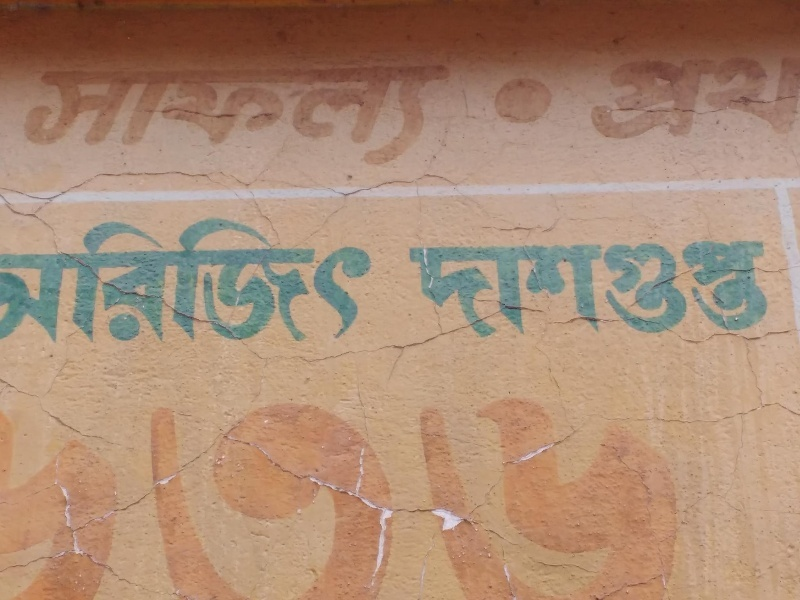text: (17, 387, 32, 598), (33, 387, 48, 598), (49, 387, 64, 598), (65, 387, 80, 598), (81, 387, 96, 598), (97, 387, 112, 598), (113, 387, 128, 598), (129, 387, 144, 598), (145, 387, 160, 598), (161, 387, 176, 598), (177, 387, 192, 598), (193, 387, 208, 598), (209, 387, 224, 598), (225, 387, 240, 598), (241, 387, 256, 598), (257, 387, 272, 598), (273, 387, 288, 598), (289, 387, 304, 598), (305, 387, 320, 598), (321, 387, 336, 598), (337, 387, 352, 598), (353, 387, 368, 598), (369, 387, 384, 598), (385, 387, 400, 598), (401, 387, 416, 598), (417, 387, 432, 598), (433, 387, 448, 598), (449, 387, 464, 598), (465, 387, 480, 598), (481, 387, 496, 598), (497, 387, 512, 598), (513, 387, 528, 598), (529, 387, 544, 598), (545, 387, 560, 598), (561, 387, 576, 598), (577, 387, 592, 598), (593, 387, 608, 598), (609, 387, 624, 598), (625, 387, 640, 598), (641, 387, 656, 598), (657, 387, 672, 598), (673, 387, 688, 598), (4, 387, 16, 598), (17, 204, 32, 354), (33, 204, 48, 354), (49, 204, 64, 354), (65, 204, 80, 354), (81, 204, 96, 354), (97, 204, 112, 354), (113, 204, 128, 354), (129, 204, 144, 354), (145, 204, 160, 354), (161, 204, 176, 354), (177, 204, 192, 354), (193, 204, 208, 354), (209, 204, 224, 354), (225, 204, 240, 354), (241, 204, 256, 354), (257, 204, 272, 354), (273, 204, 288, 354), (289, 204, 304, 354), (305, 204, 320, 354), (321, 204, 336, 354), (337, 204, 352, 354), (353, 204, 368, 354), (689, 387, 699, 598), (33, 53, 48, 174), (49, 53, 64, 174), (65, 53, 80, 174), (81, 53, 96, 174), (97, 53, 112, 174), (113, 53, 128, 174), (129, 53, 144, 174), (145, 53, 160, 174), (161, 53, 176, 174), (177, 53, 192, 174), (193, 53, 208, 174), (209, 53, 224, 174), (225, 53, 240, 174), (241, 53, 256, 174), (257, 53, 272, 174), (273, 53, 288, 174), (289, 53, 304, 174), (305, 53, 320, 174), (321, 53, 336, 174), (337, 53, 352, 174), (353, 53, 368, 174), (369, 53, 384, 174), (385, 53, 400, 174), (401, 53, 416, 174), (417, 53, 432, 174), (433, 53, 448, 174), (4, 204, 16, 354), (417, 227, 432, 342), (433, 227, 448, 342), (449, 227, 464, 342), (465, 227, 480, 342), (481, 227, 496, 342), (497, 227, 512, 342), (513, 227, 528, 342), (529, 227, 544, 342), (545, 227, 560, 342), (561, 227, 576, 342), (577, 227, 592, 342), (593, 227, 608, 342), (609, 227, 624, 342), (625, 227, 640, 342), (641, 227, 656, 342), (657, 227, 672, 342), (673, 227, 688, 342), (689, 227, 704, 342), (705, 227, 720, 342), (721, 227, 736, 342), (737, 227, 752, 342), (753, 227, 768, 342), (769, 227, 784, 342), (609, 42, 624, 152), (625, 42, 640, 152), (641, 42, 656, 152), (657, 42, 672, 152), (673, 42, 688, 152), (689, 42, 704, 152), (705, 42, 720, 152), (721, 42, 736, 152), (737, 42, 752, 152), (753, 42, 768, 152), (769, 42, 784, 152), (785, 42, 797, 152), (406, 227, 416, 342), (598, 42, 608, 152), (369, 204, 374, 354), (27, 53, 32, 174), (449, 53, 454, 174), (785, 227, 788, 342)
